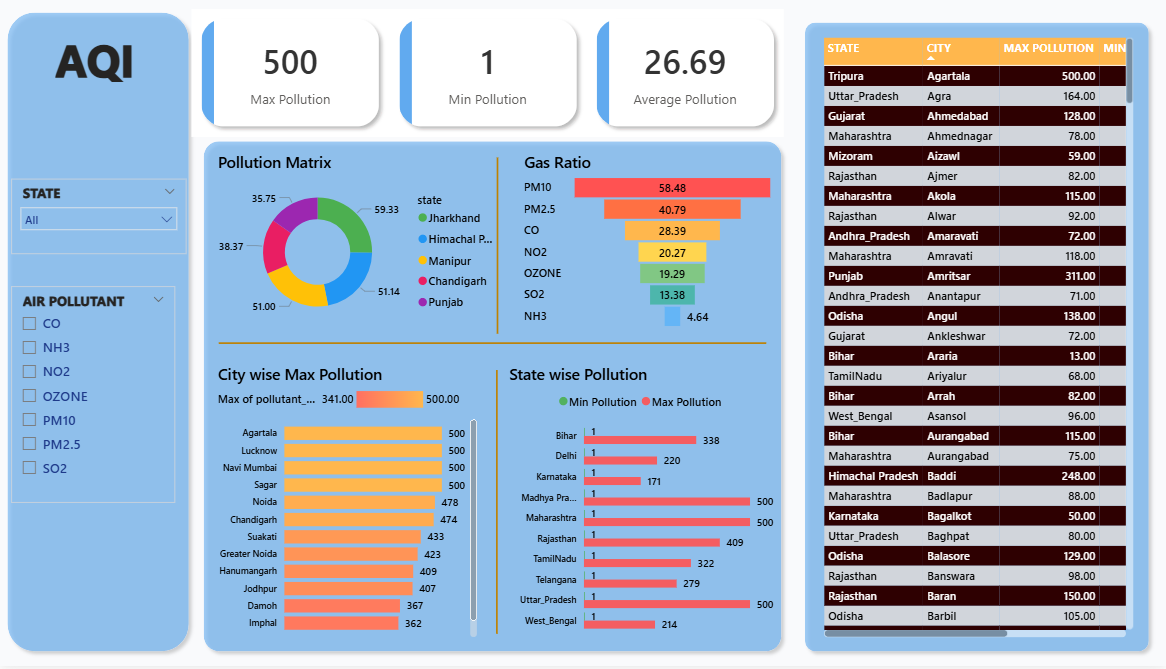

This screenshot's page, from the dashboard's own definition file:
{"tool":"powerbi","page":{"name":"Dashboard","canvas":[1400,800],"ordinal":0},"visuals":[{"type":"shape","box":[0,6,235.6,785],"z":0},{"type":"textbox","box":[61.5,30,114.1,82.5],"z":1000},{"type":"shape","box":[235.6,160.6,711.4,630.4],"z":2000},{"type":"cardVisual","fields":{"Data":["Max(pollution data.pollutant_max)","Min(pollution data.pollutant_min)","Avg(pollution data.pollutant_avg)"]},"box":[225.1,6,721.9,163.6],"z":3000},{"type":"donutChart","title":"Pollution Matrix ","fields":{"Y":["Avg(pollution data.pollutant_avg)"],"Category":["pollution data.state"]},"box":[256.6,181.6,352.7,217.6],"z":4000},{"type":"barChart","title":"City wise Max Pollution","fields":{"Category":["pollution data.city"],"Y":["Max(pollution data.pollutant_max)"]},"box":[256.6,436.8,321.2,333.2],"z":5000},{"type":"shape","box":[262.7,405.2,657.4,13.5],"z":6000},{"type":"clusteredBarChart","title":"State wise Pollution","fields":{"Category":["pollution data.state"],"Y":["Min(pollution data.pollutant_min)","Max(pollution data.pollutant_max)"]},"box":[606.3,436.8,328.7,333.2],"z":7000},{"type":"shape","box":[957.6,18,430.7,772.9],"z":8000},{"type":"tableEx","fields":{"Values":["pollution data.state","pollution data.city","Max(pollution data.pollutant_max)","Min(pollution data.pollutant_min)","Avg(pollution data.pollutant_avg)"]},"box":[983.1,40.5,382.7,729.4],"z":9000},{"type":"funnel","title":"Gas Ratio","fields":{"Category":["pollution data.pollutant_id"],"Y":["Avg(pollution data.pollutant_avg)"]},"box":[624.4,181.6,310.7,217.6],"z":10000},{"type":"shape","box":[591.3,189.1,12,211.6],"z":11000},{"type":"shape","box":[585.3,444.3,22.5,316.7],"z":12000},{"type":"slicer","fields":{"Values":["pollution data.state"]},"box":[13.5,214.6,210.1,90.1],"z":13000},{"type":"slicer","fields":{"Values":["pollution data.pollutant_id"]},"box":[13.5,343.7,196.6,259.6],"z":14000}]}

Visuals, with their boxes in screenshot pixels (x1, y1, x2, y2), scaled from the page's 1400x800 canvas onto the 1166x669 screenshot:
shape: 0,5,196,661
textbox: 51,25,146,94
shape: 196,134,789,661
cardVisual - Max(pollution data.pollutant_max) x Min(pollution data.pollutant_min): 187,5,789,142
"Pollution Matrix " donutChart: 214,152,507,334
"City wise Max Pollution" barChart: 214,365,481,644
shape: 219,339,766,350
"State wise Pollution" clusteredBarChart: 505,365,779,644
shape: 798,15,1156,661
tableEx - pollution data.state x pollution data.city: 819,34,1138,644
"Gas Ratio" funnel: 520,152,779,334
shape: 492,158,502,335
shape: 487,372,506,636
slicer - pollution data.state: 11,179,186,255
slicer - pollution data.pollutant_id: 11,287,175,505
